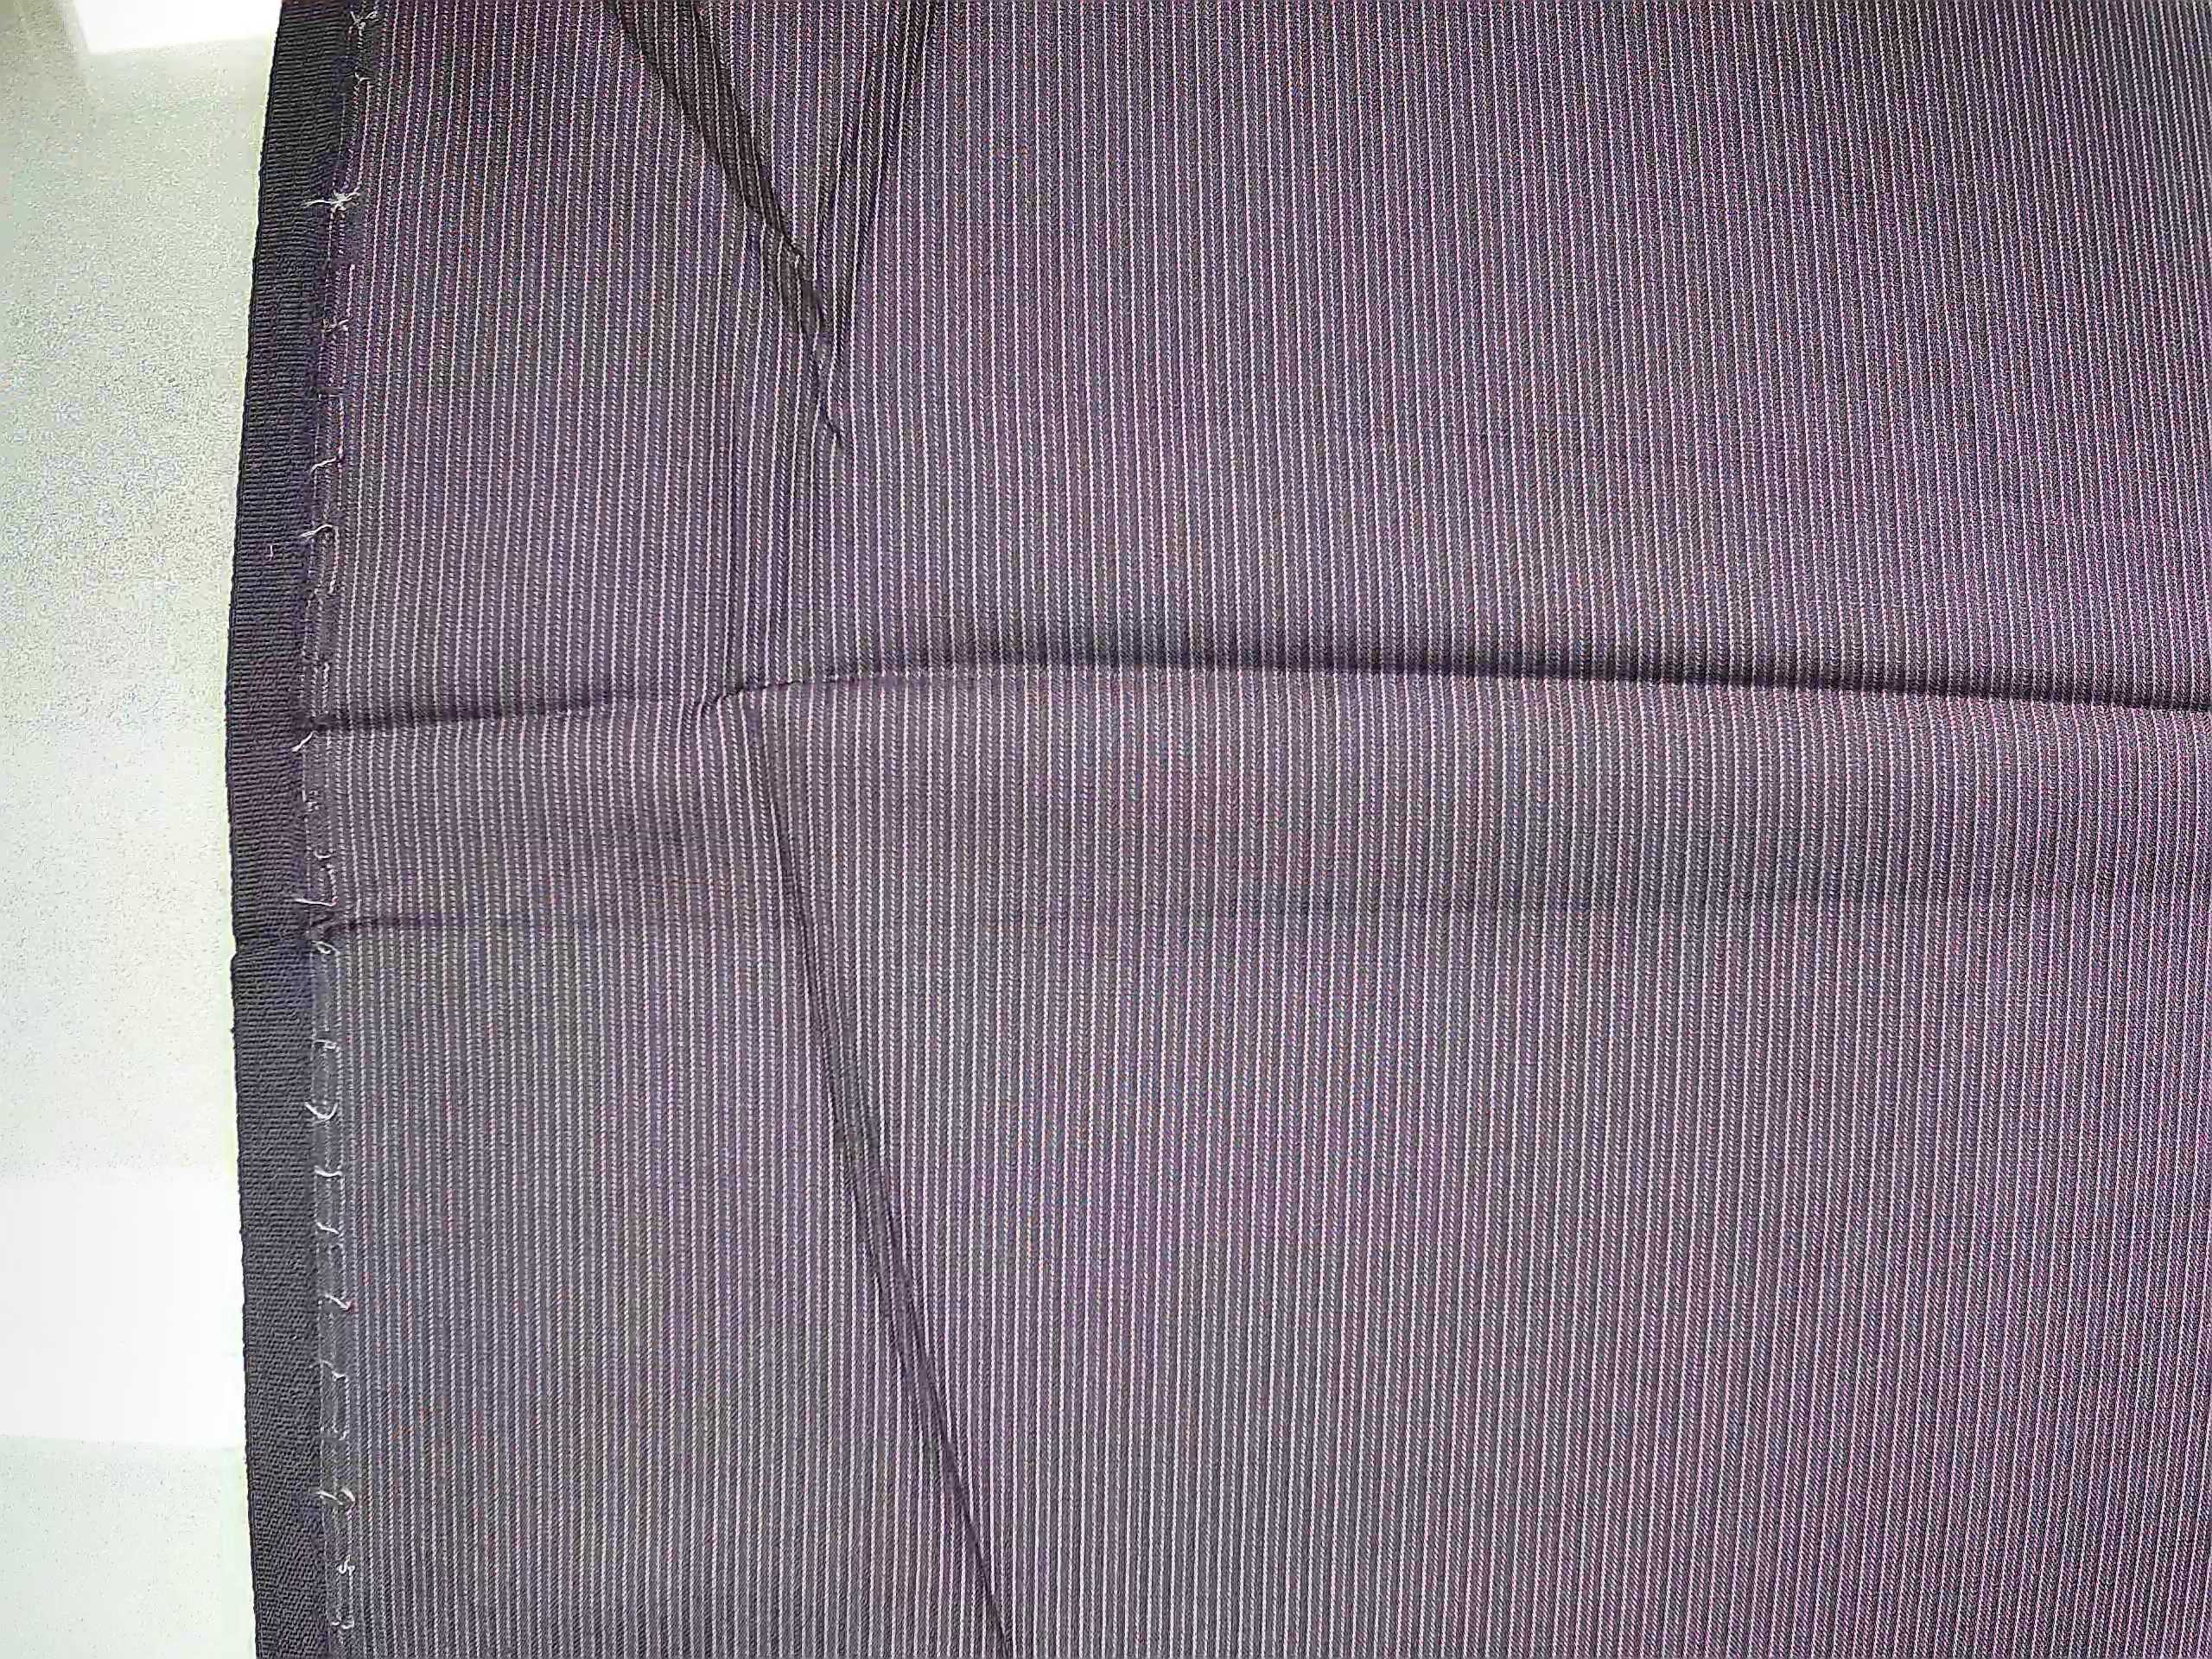others: (291, 7, 383, 1633)
